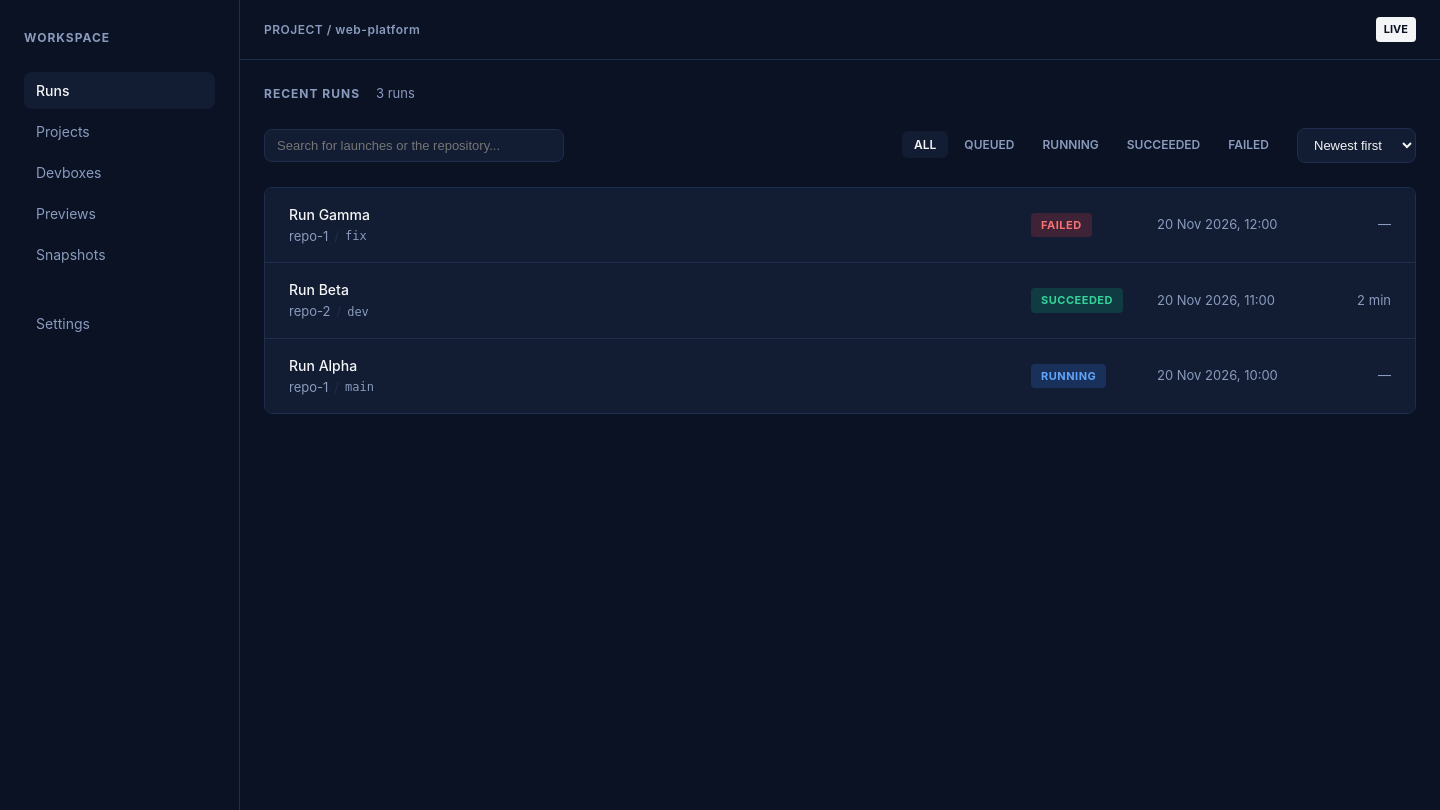
Test: App Integration Tests › 2. should search runs by name and repository
Expected: the heading "Run Alpha" is shown, [289,356,357,374]
In the search field named "Launch search": (414,145) [264,128,564,162], type "Beta"
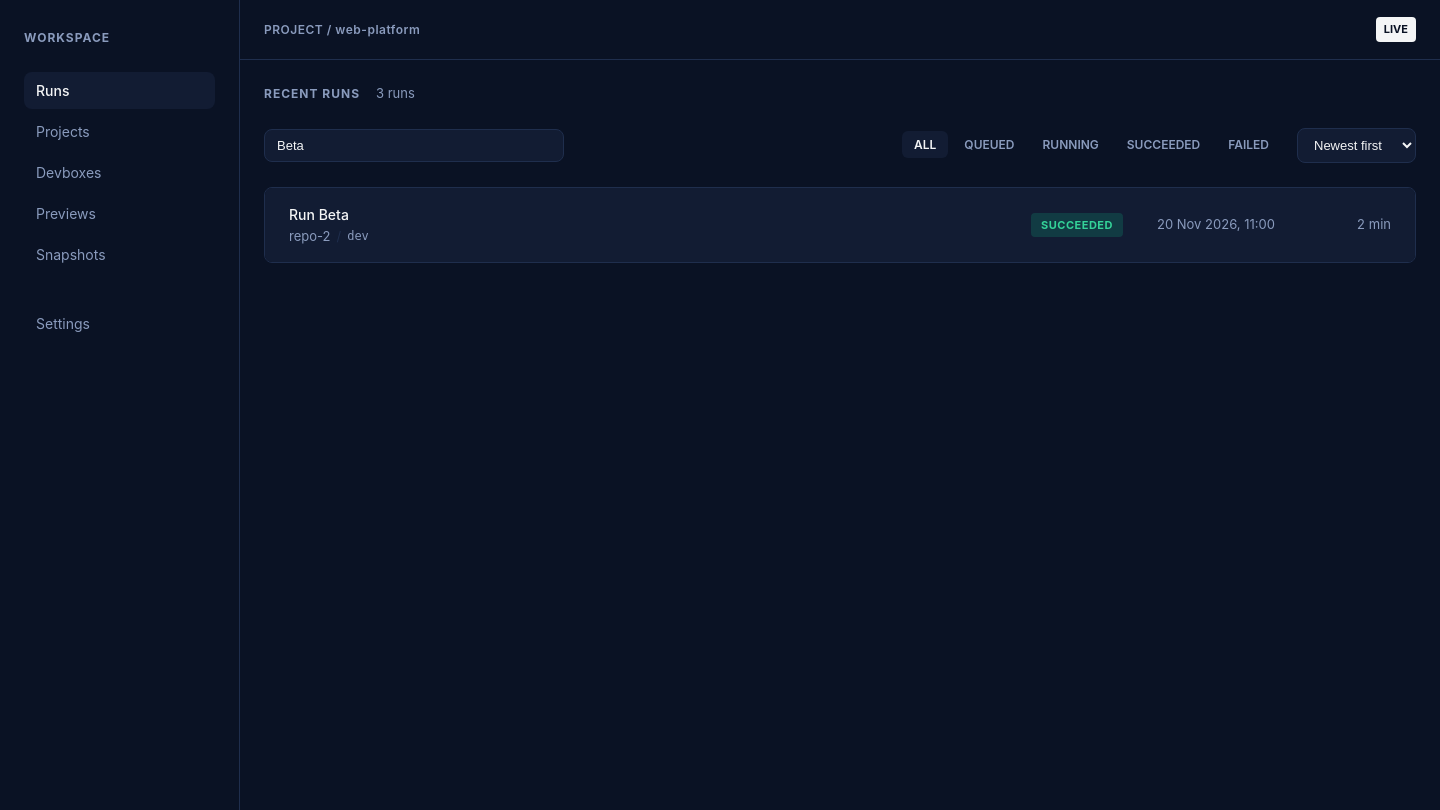
Expected: the heading "Run Beta" is shown, [289,206,349,222]
Expected: the button "Run Alpha" is gone
Replace the text in the search field named "Launch search" with "repo-1": (414,145) [264,128,564,162]
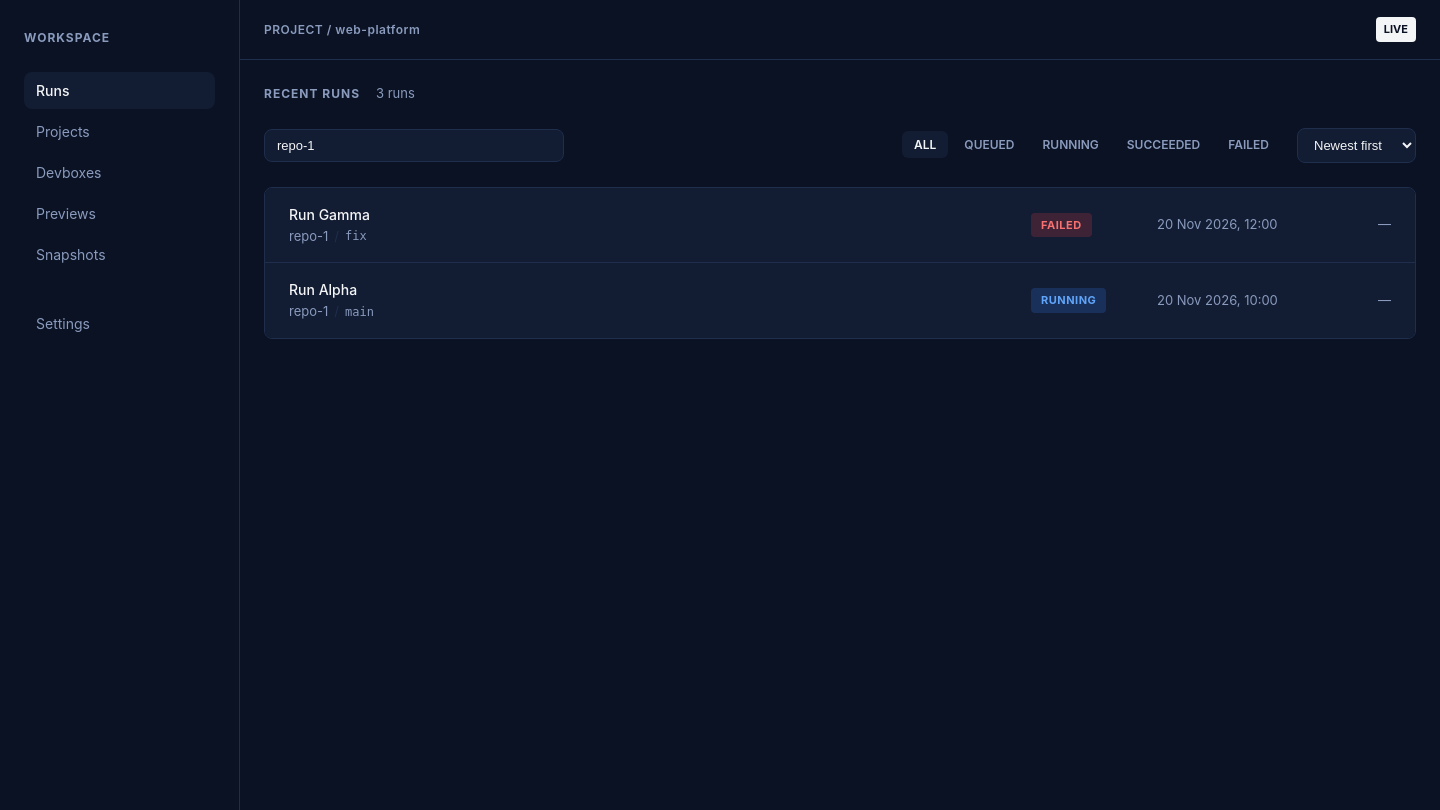
Expected: the heading "Run Alpha" is shown, [289,281,357,298]
Expected: the heading "Run Gamma" is shown, [289,206,370,222]
Expected: the button "Run Beta" is gone
